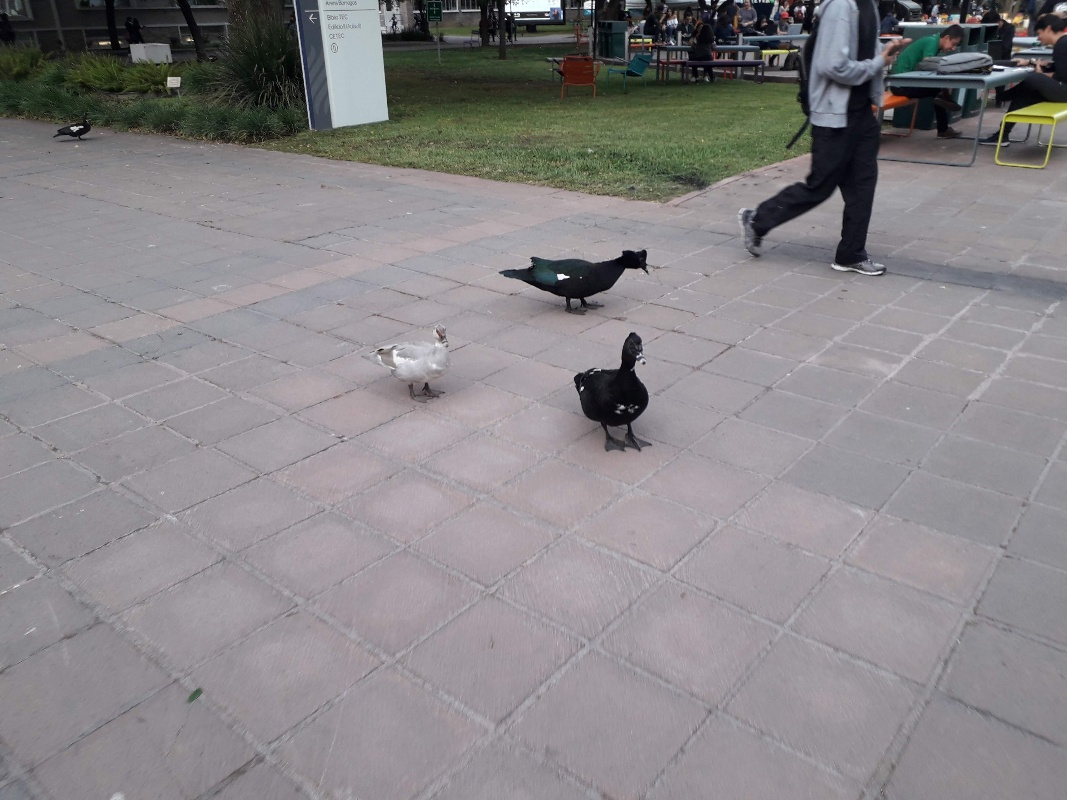pato: (498, 244, 649, 319), (574, 331, 654, 463), (370, 326, 451, 400), (58, 113, 93, 143)
